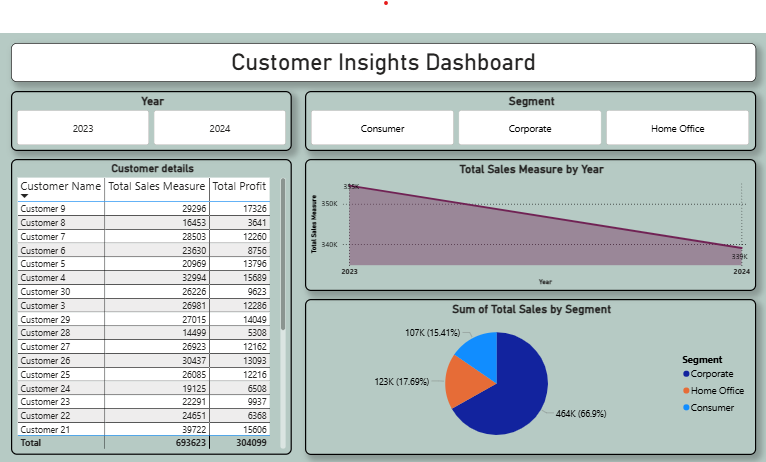

The page's visual inventory and layout, read from the dashboard file:
{"tool":"powerbi","page":{"name":"Page 3","canvas":[1280,720],"ordinal":2},"visuals":[{"type":"pieChart","fields":{"Category":["customers_table.Segment"],"Y":["Sum(sales_table.Total Sales)"]},"box":[508.3,445,751.7,260],"z":0},{"type":"tableEx","title":"Customer details","fields":{"Values":["customers_table.Customer Name","sales_table.Total Sales Measure","sales_table.Total Profit"]},"box":[18.3,211.7,468.3,493.3],"z":1},{"type":"lineChart","fields":{"Category":["date_table.Year"],"Y":["sales_table.Total Sales Measure"]},"box":[508.3,211.7,751.7,220],"z":2},{"type":"advancedSlicerVisual","fields":{"Values":["customers_table.Segment"]},"box":[508.3,98.3,751.7,100],"z":3},{"type":"advancedSlicerVisual","fields":{"Values":["date_table.Year"]},"box":[18.3,98.3,468.3,100],"z":4},{"type":"textbox","box":[18.3,18.3,1241.7,65],"z":5}]}

Visuals, with their boxes in screenshot pixels (x1, y1, x2, y2):
pieChart - customers_table.Segment x Sum(sales_table.Total Sales): Rect(304, 295, 748, 448)
"Customer details" tableEx: Rect(15, 157, 291, 448)
lineChart - date_table.Year x sales_table.Total Sales Measure: Rect(304, 157, 748, 287)
advancedSlicerVisual - customers_table.Segment: Rect(304, 90, 748, 149)
advancedSlicerVisual - date_table.Year: Rect(15, 90, 291, 149)
textbox: Rect(15, 43, 748, 81)
